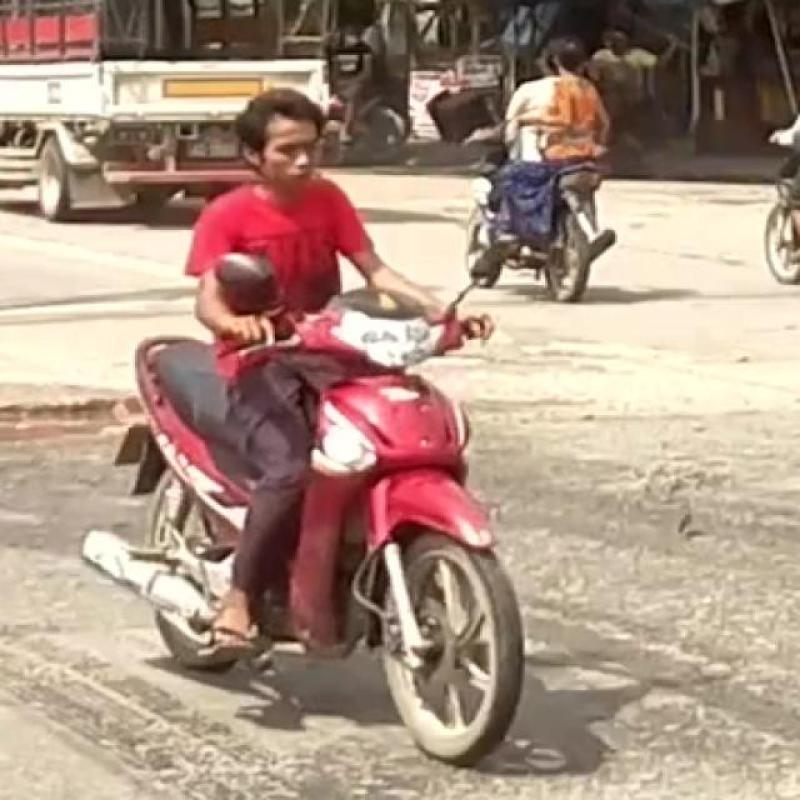nohelmet: (206, 80, 412, 204)
